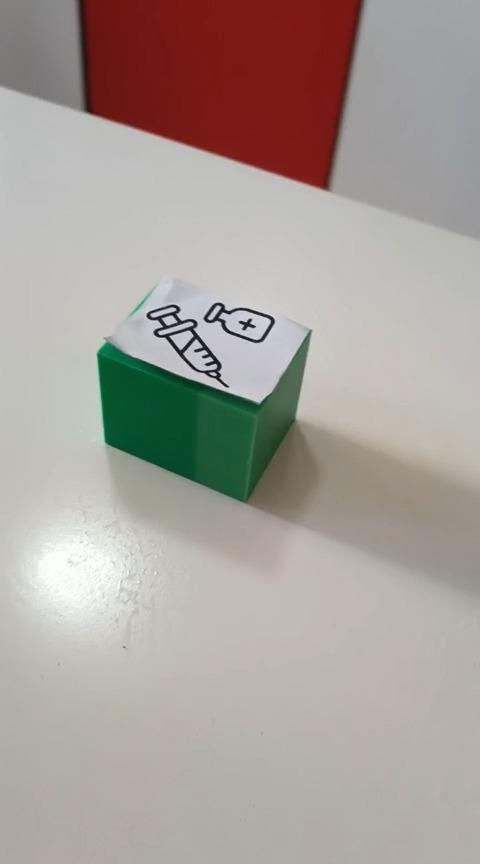antiseptic cream: (96, 274, 313, 503)
